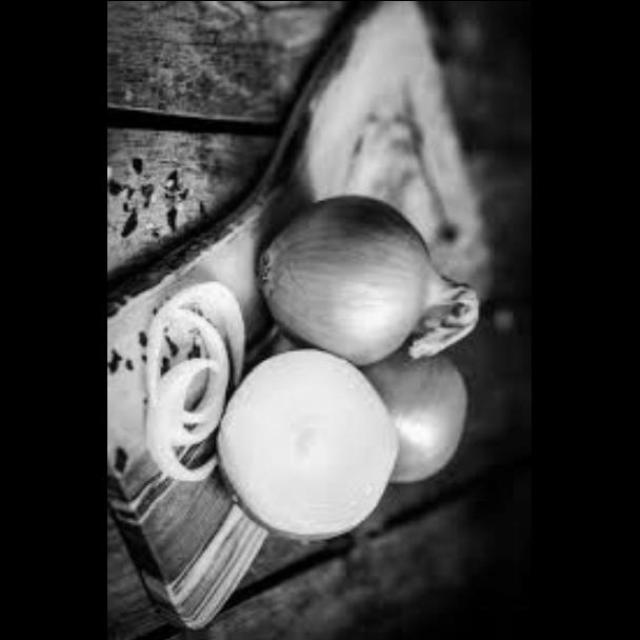cu hanh: (214, 354, 399, 547), (258, 190, 456, 370), (133, 281, 259, 487), (350, 341, 475, 493)
